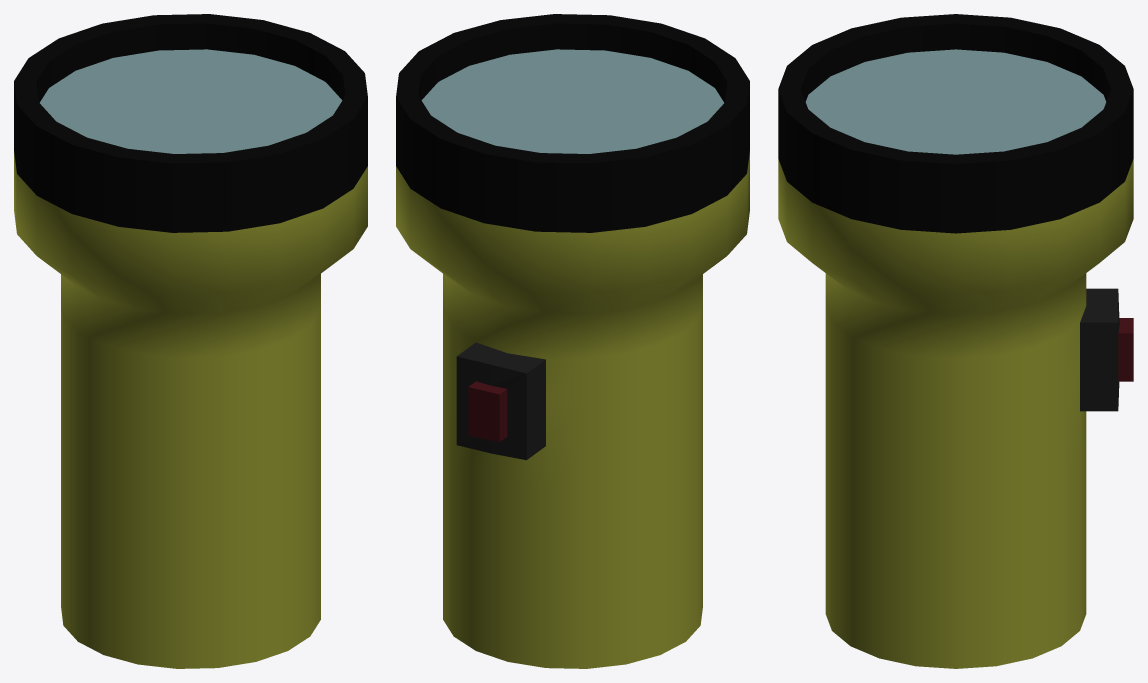
The model's file is Linterna.fbx.
3 renders of one model, left to right at view 1: azimuth 30°, elevation 25°; view 2: azimuth 150°, elevation 25°; view 3: azimuth 270°, elevation 25°, orthographic.
Parts seen in each view (by area): view 1: Cylinder001; view 2: Cylinder001; view 3: Cylinder001.
Boxes of the visible parts, x1,y1,x2,y2 form: Cylinder001: (14,14,367,668); Cylinder001: (396,14,749,668); Cylinder001: (778,14,1133,668).
Size of the model in its own units: 0.1503 by 0.2448 by 0.1503.
